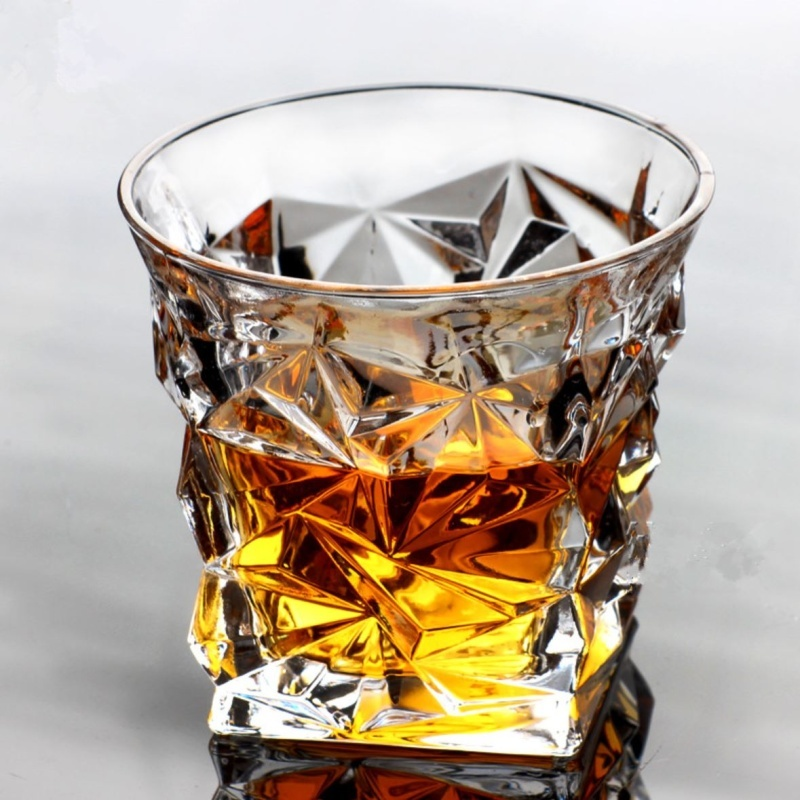whiskey: (109, 80, 706, 750)
